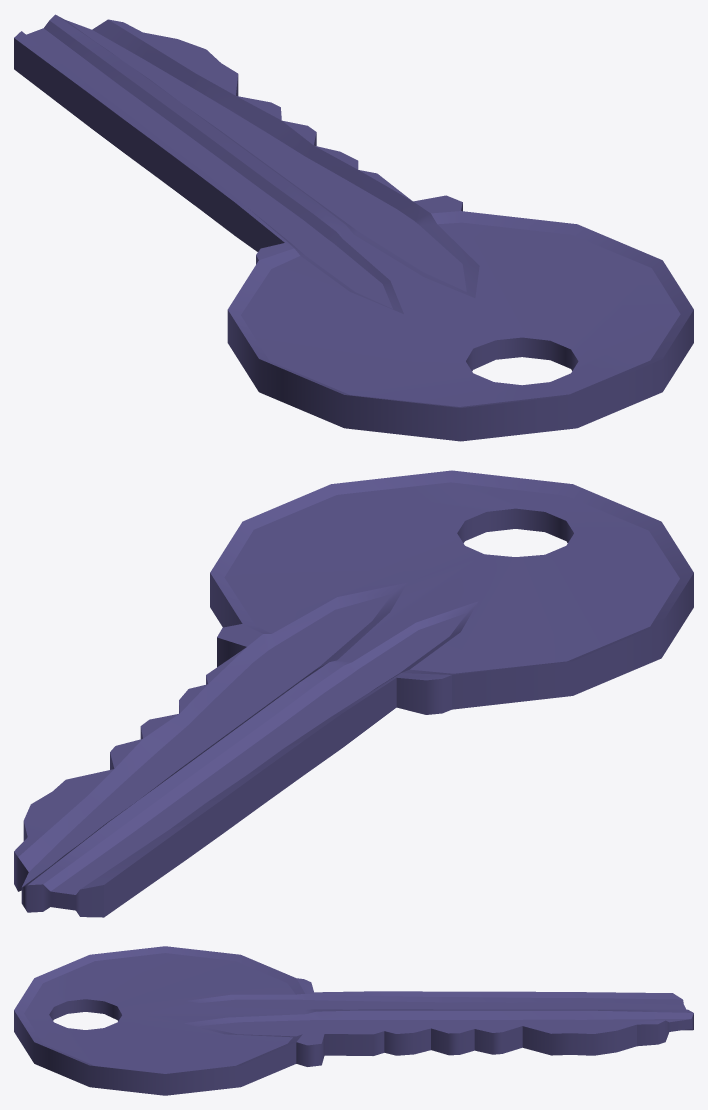
The model's file is Llave.fbx.
The picture shows the model from 3 angles, top to bottom: view 1: azimuth 30°, elevation 25°; view 2: azimuth 150°, elevation 25°; view 3: azimuth 270°, elevation 25°; orthographic projection. The views are drawn at different scales.
Parts seen in each view (by area): view 1: Llave; view 2: Llave; view 3: Llave.
Boxes of the visible parts, x1=… form: Llave: x1=14, y1=14, x2=693, y2=441; Llave: x1=14, y1=470, x2=693, y2=917; Llave: x1=14, y1=946, x2=693, y2=1095.
Size of the model in its own units: 0.0227 by 0.0018 by 0.0511.
